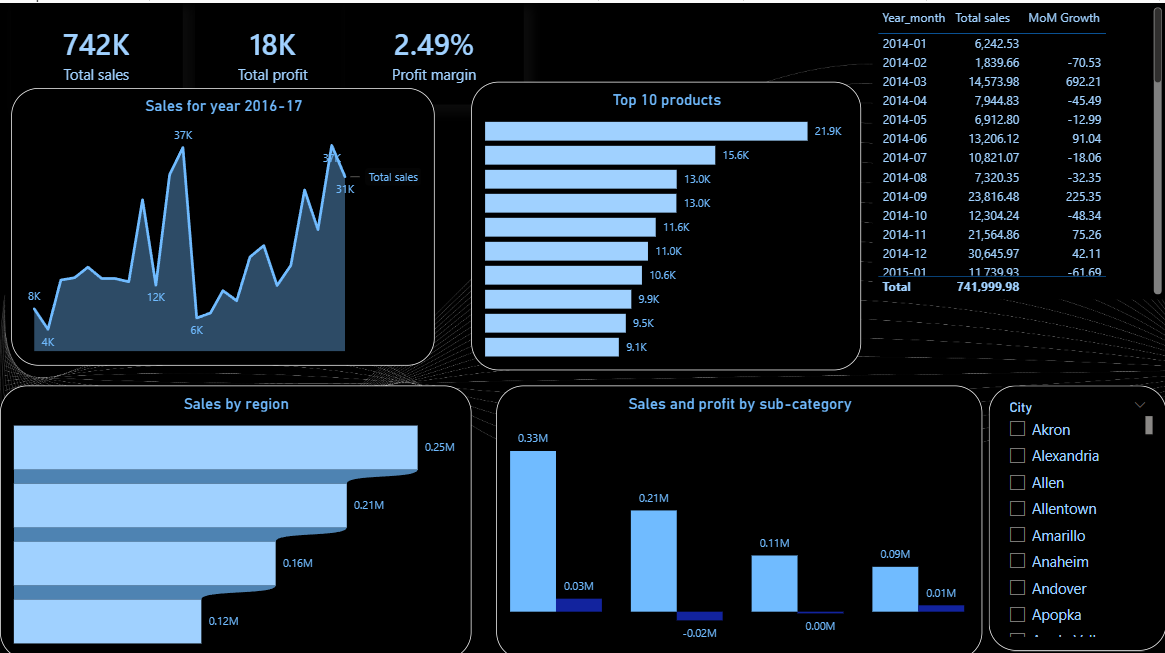

The dashboard page shown, as its layout file describes it:
{"tool":"powerbi","page":{"name":"Page 1","canvas":[1280,720],"ordinal":0},"visuals":[{"type":"cardVisual","fields":{"Data":["Measures (2).Total sales"]},"box":[12.3,0,188,111.1],"z":0},{"type":"cardVisual","fields":{"Data":["Measures (2).Total profit"]},"box":[214.1,0,171.5,111.1],"z":1000},{"type":"cardVisual","fields":{"Data":["Measures (2).Profit margin"]},"box":[378.7,0,196.2,111.1],"z":2000},{"type":"lineChart","title":"Sales for year 2016-17","fields":{"Y":["Measures (2).Total sales"],"Category":["Calendar.Date.Variation.Date Hierarchy.Year","Calendar.Date.Variation.Date Hierarchy.Month"]},"box":[12.3,93.3,465.2,304.6],"z":3000},{"type":"barChart","title":"Sales by region","fields":{"Y":["Measures (2).Total sales"],"Category":["stores_sales_forecasting.Region"]},"box":[0,419.9,517.3,300.5],"z":4000},{"type":"tableEx","fields":{"Values":["Calendar.Year_month","Measures (2).Total sales","Measures (2).MoM Growth"]},"box":[957.8,0,322.5,325.2],"z":5000},{"type":"slicer","fields":{"Values":["stores_sales_forecasting.City"]},"box":[1085.4,419.9,194.9,290.9],"z":6000},{"type":"clusteredColumnChart","title":"Sales and profit by sub-category","fields":{"Category":["stores_sales_forecasting.Sub-Category"],"Y":["Measures (2).Total sales","Measures (2).Total profit"]},"box":[544.8,419.9,533.8,300.5],"z":7000},{"type":"clusteredBarChart","title":"Top 10 products","fields":{"Category":["stores_sales_forecasting.Product Name"],"Y":["Measures (2).Total sales"]},"box":[517.3,86.4,428.1,317],"z":8000}]}

Visuals, with their boxes in screenshot pixels (x1, y1, x2, y2), scaled from the page's 1280x720 canvas onto the 1165x653 screenshot:
cardVisual - Measures (2).Total sales: 11,0,182,101
cardVisual - Measures (2).Total profit: 195,0,351,101
cardVisual - Measures (2).Profit margin: 345,0,523,101
"Sales for year 2016-17" lineChart: 11,85,435,361
"Sales by region" barChart: 0,381,471,652
tableEx - Calendar.Year_month x Measures (2).Total sales: 872,0,1164,295
slicer - stores_sales_forecasting.City: 988,381,1164,645
"Sales and profit by sub-category" clusteredColumnChart: 496,381,982,652
"Top 10 products" clusteredBarChart: 471,78,860,366
